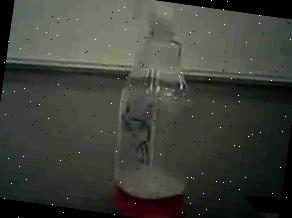hazard: (86, 0, 217, 218)
